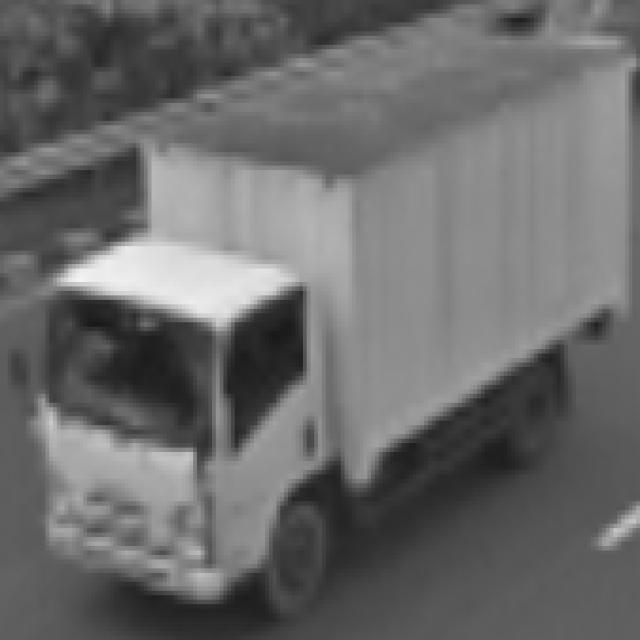truck: (6, 230, 353, 619)
